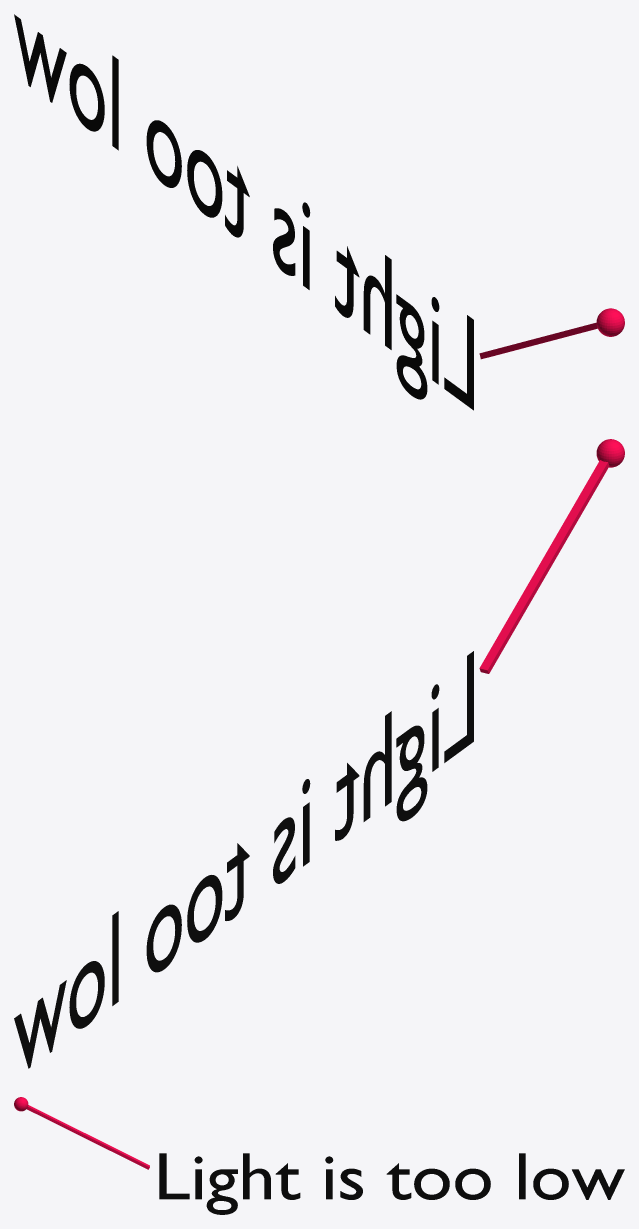
The model's file is light.glb.
3 renders of one model, top to bottom at view 1: azimuth 30°, elevation 25°; view 2: azimuth 150°, elevation 25°; view 3: azimuth 270°, elevation 25°, orthographic. The views are drawn at different scales.
Parts seen in each view (by area): view 1: Text, Sphere; view 2: Text, Sphere; view 3: Text, Sphere.
Part boxes in pixels (box(x1,y1,x2,y2)): Text: box(14, 14, 473, 410); Sphere: box(479, 308, 624, 359); Text: box(14, 651, 473, 1068); Sphere: box(479, 439, 624, 673); Text: box(159, 1153, 624, 1214); Sphere: box(14, 1097, 149, 1169).
Size of the model in its own units: 0.1943 by 1.74 by 8.22.
